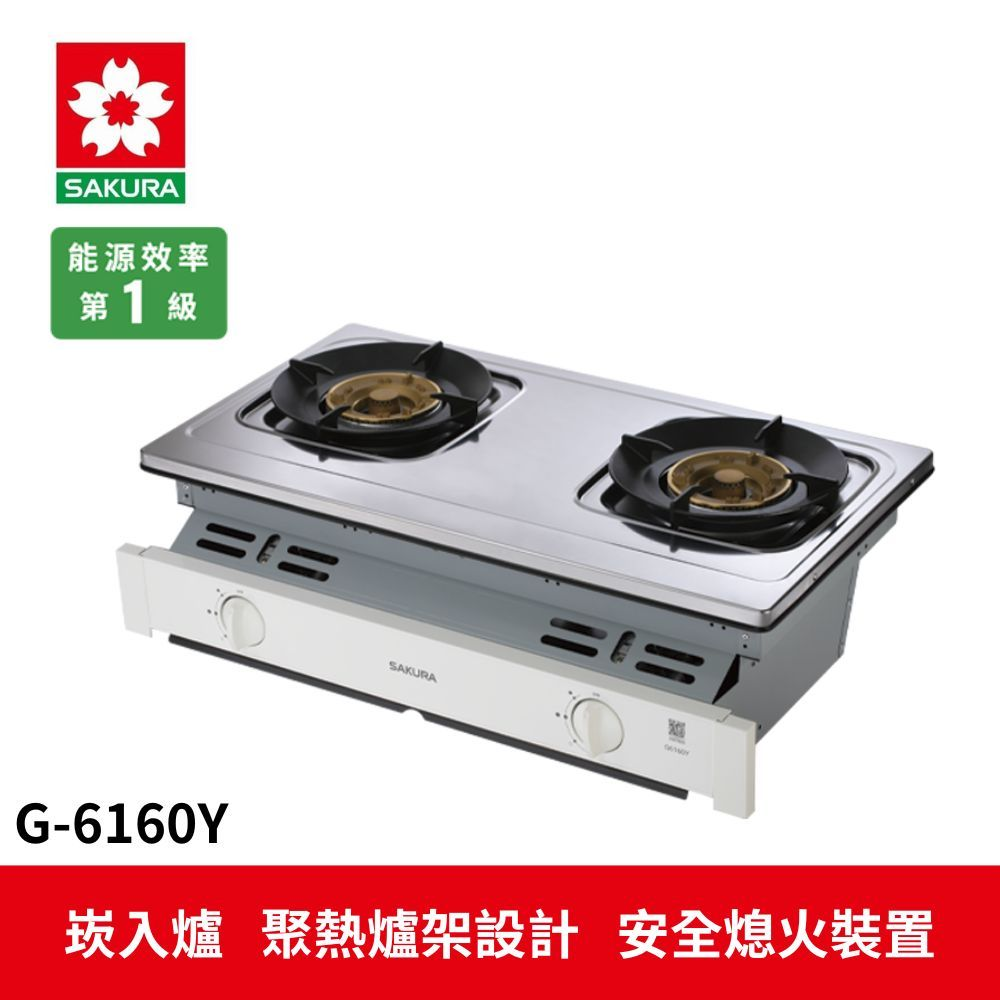gasoven: (93, 305, 943, 829)
